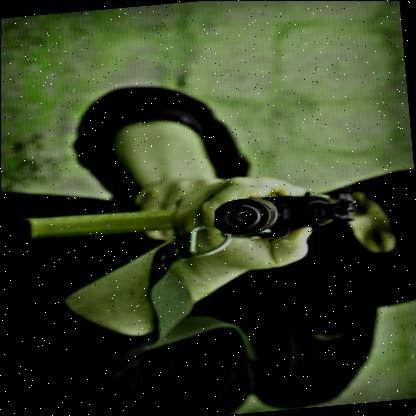rifle: (0, 173, 356, 272)
